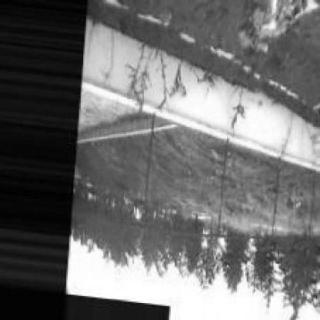Fire: (226, 2, 303, 66)
